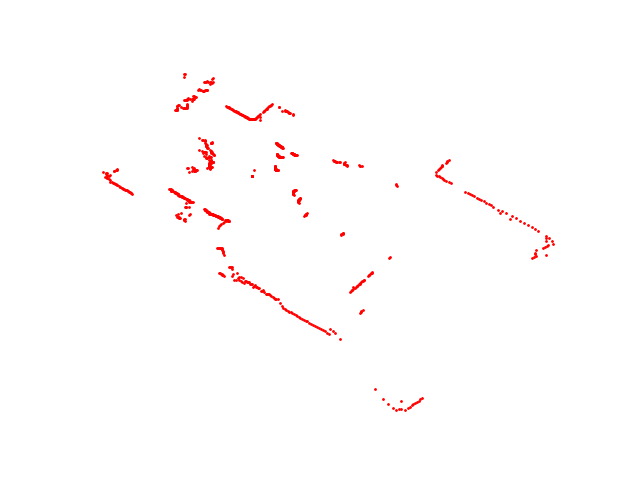person: (272, 150, 285, 173), (290, 186, 304, 207)
